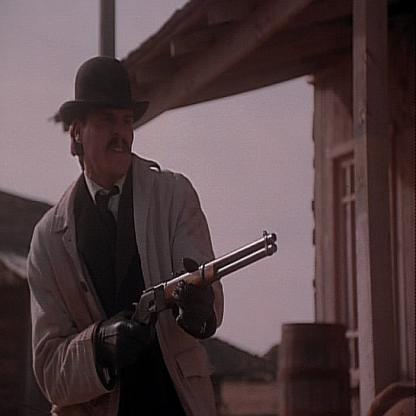gun: (68, 217, 302, 371)
